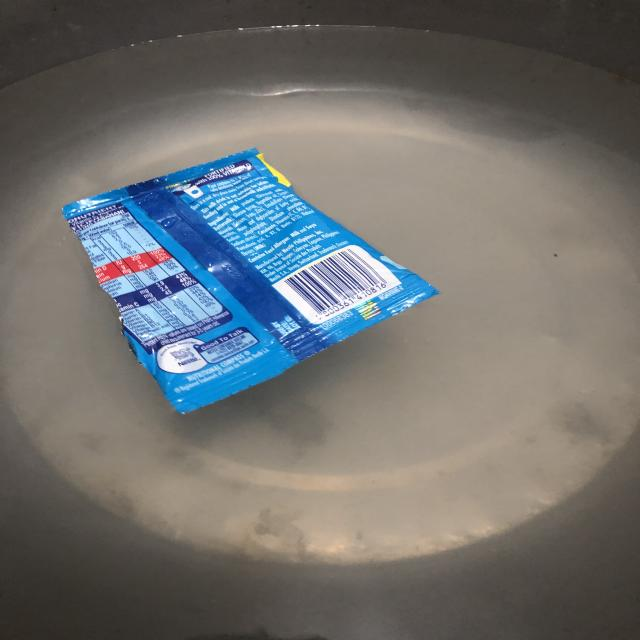Plastic Wrapper: (63, 149, 438, 412)
